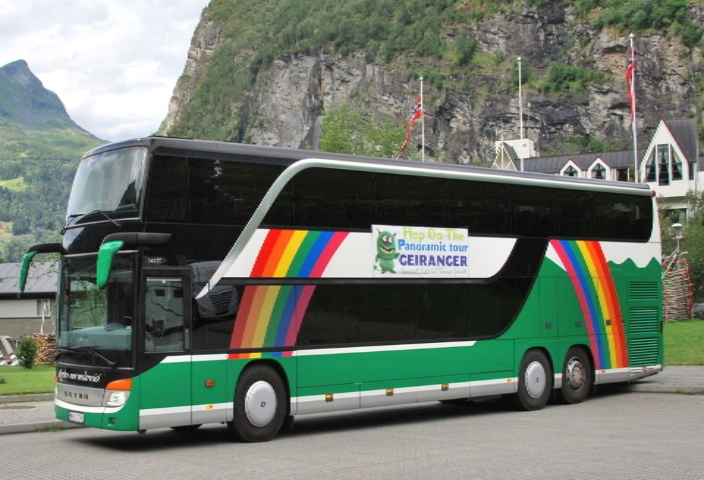bus: (7, 133, 671, 444)
